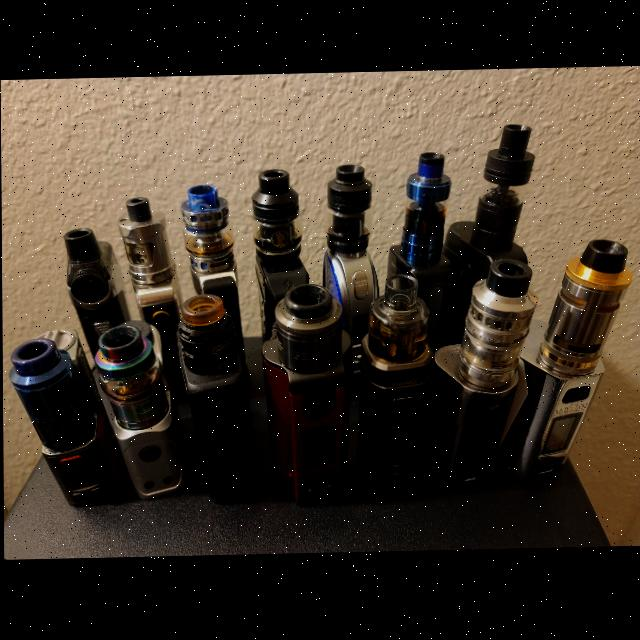vape: (493, 241, 633, 487), (427, 260, 539, 498), (260, 285, 353, 508), (7, 329, 119, 509), (354, 274, 434, 498), (176, 294, 261, 504), (93, 320, 187, 501), (442, 127, 536, 264), (322, 165, 380, 346), (383, 154, 454, 278), (116, 196, 183, 322), (179, 185, 246, 296), (62, 227, 131, 329), (251, 170, 308, 287)
